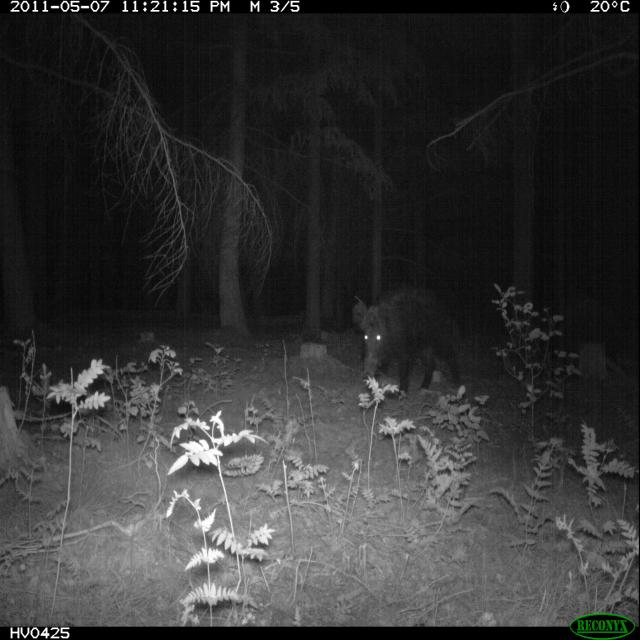boar: (337, 243, 504, 409)
